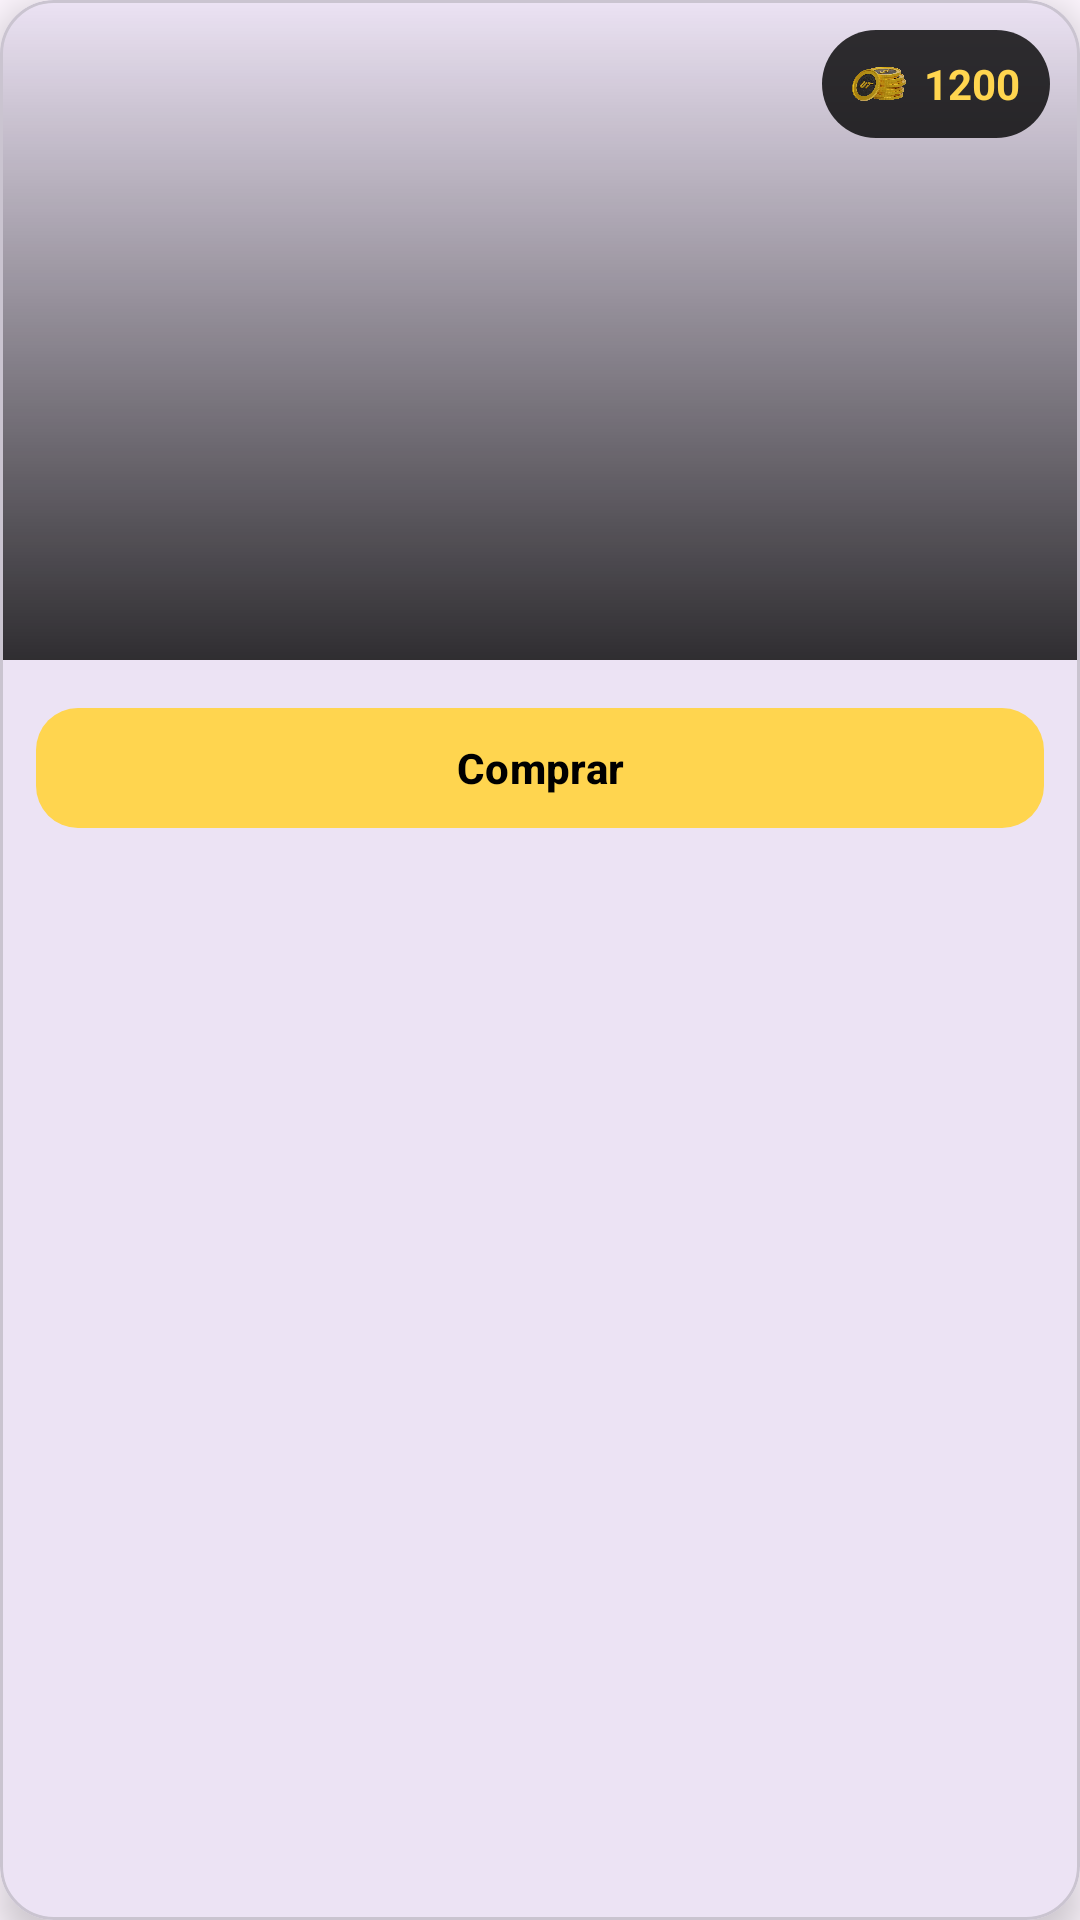

Point at icon controls on the screen. Image size 1080px x 1920px, points as (x=x, y=y).
monedas: (x=879, y=84)
